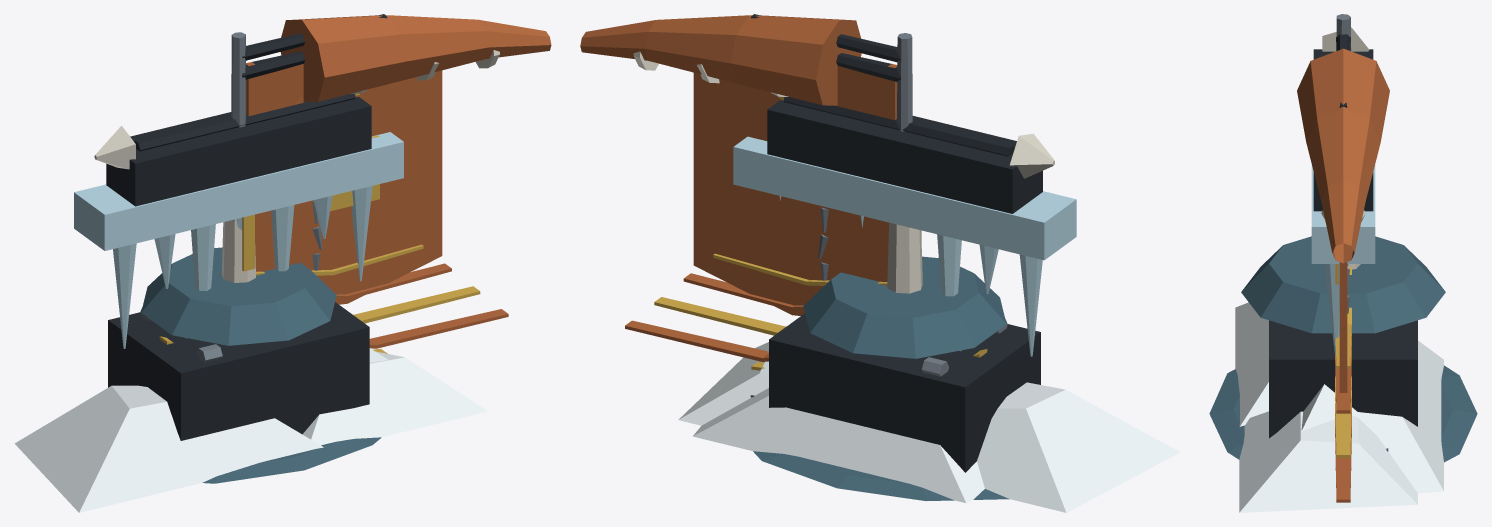
File: weather-props.glb
The picture shows the model from 3 angles, left to right: view 1: azimuth 30°, elevation 25°; view 2: azimuth 150°, elevation 25°; view 3: azimuth 270°, elevation 25°; orthographic projection. The views are drawn at different scales.
Parts seen in each view (by area): view 1: equipment-case, banner-cloth, drift-lobe-0, gutter, windsock-cloth, ice-lip, catcher-bowl, drift-lobe-2, puddle-lens, vane-spindle, dust-ribbon-3, gauge (+13 smaller); view 2: banner-cloth, equipment-case, drift-lobe-0, gutter, windsock-cloth, ice-lip, catcher-bowl, drift-lobe-1, puddle-lens, drift-lobe-2, vane-spindle, gauge (+10 smaller); view 3: windsock-cloth, drift-lobe-2, catcher-bowl, equipment-case, drift-lobe-1, puddle-lens, drift-lobe-0, ice-lip, banner-cloth, icicle-6, dust-ribbon-3, dust-ribbon-2 (+5 smaller).
Part boxes in pixels (x1,y1,x2,y2): equipment-case: (108, 302, 369, 440); banner-cloth: (246, 62, 442, 304); drift-lobe-0: (14, 385, 323, 512); gutter: (106, 97, 371, 206); windsock-cloth: (280, 15, 551, 102); ice-lip: (74, 132, 403, 250); catcher-bowl: (141, 247, 336, 345); drift-lobe-2: (302, 351, 487, 445); puddle-lens: (202, 437, 381, 483); vane-spindle: (134, 94, 355, 151); dust-ribbon-3: (369, 309, 508, 348); gauge: (222, 219, 255, 282); banner-cloth: (693, 64, 897, 315); equipment-case: (769, 313, 1040, 472); drift-lobe-0: (977, 382, 1180, 512); gutter: (767, 100, 1042, 213); windsock-cloth: (580, 15, 861, 105); ice-lip: (733, 136, 1076, 260); catcher-bowl: (803, 256, 1006, 358); drift-lobe-1: (693, 388, 984, 503); puddle-lens: (753, 451, 1009, 501); drift-lobe-2: (678, 342, 768, 425); vane-spindle: (783, 97, 1014, 156); gauge: (887, 222, 922, 293); windsock-cloth: (1297, 48, 1389, 263); drift-lobe-2: (1239, 411, 1417, 512); catcher-bowl: (1241, 236, 1445, 333); equipment-case: (1269, 320, 1417, 438); drift-lobe-1: (1301, 340, 1443, 493); puddle-lens: (1209, 365, 1477, 462); drift-lobe-0: (1235, 302, 1268, 426); ice-lip: (1311, 164, 1375, 263); banner-cloth: (1339, 262, 1347, 392); icicle-6: (1324, 264, 1347, 354); dust-ribbon-3: (1335, 401, 1351, 502); dust-ribbon-2: (1335, 376, 1351, 457).
Size of the model in its own units: 3.3 by 2.36 by 1.44.
